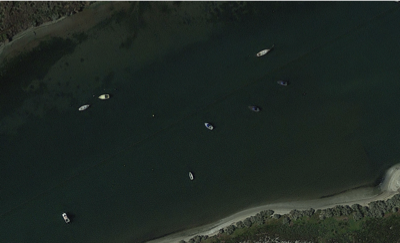boat: (257, 48, 271, 57), (61, 212, 71, 223), (248, 105, 260, 112), (98, 93, 110, 100), (79, 104, 91, 111), (204, 122, 214, 130), (277, 80, 288, 86), (189, 171, 194, 180)
